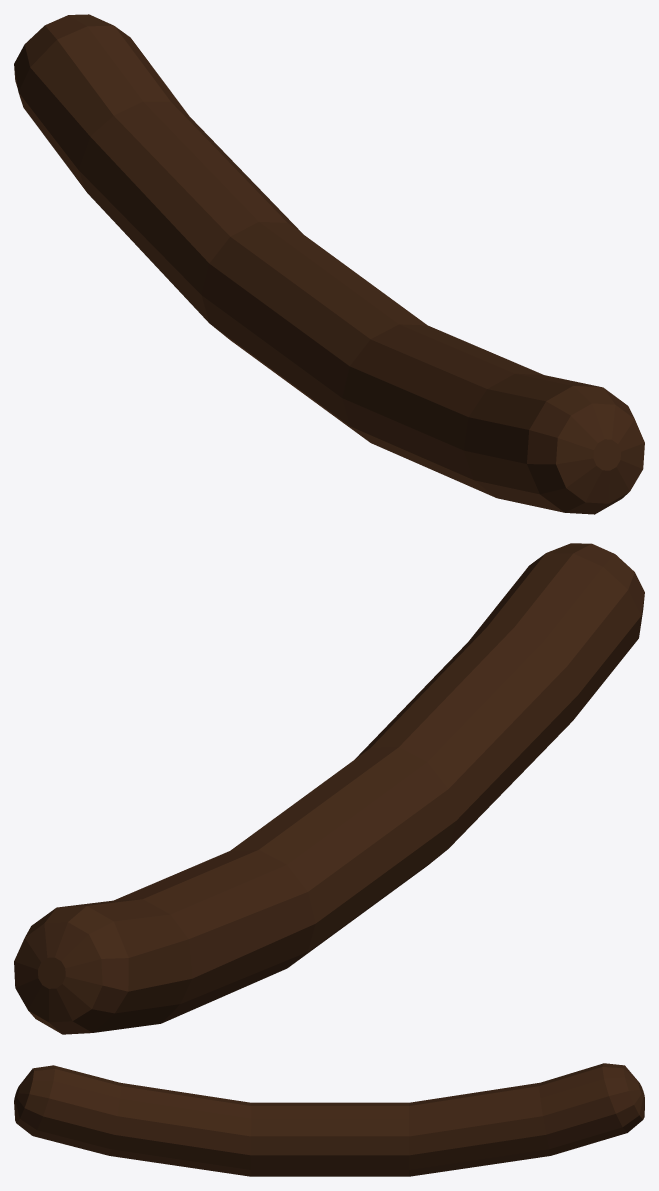
Rendered from sausageBadDone.fbx.
3 renders of one model, top to bottom at view 1: azimuth 30°, elevation 25°; view 2: azimuth 150°, elevation 25°; view 3: azimuth 270°, elevation 25°, orthographic. The views are drawn at different scales.
Parts seen in each view (by area): view 1: Cylinder; view 2: Cylinder; view 3: Cylinder.
Part boxes in pixels (x1=…): Cylinder: x1=14, y1=14, x2=644, y2=514; Cylinder: x1=14, y1=543, x2=644, y2=1034; Cylinder: x1=14, y1=1063, x2=644, y2=1176.
Bounding box in the file's own units: 200 × 316 × 1698.
